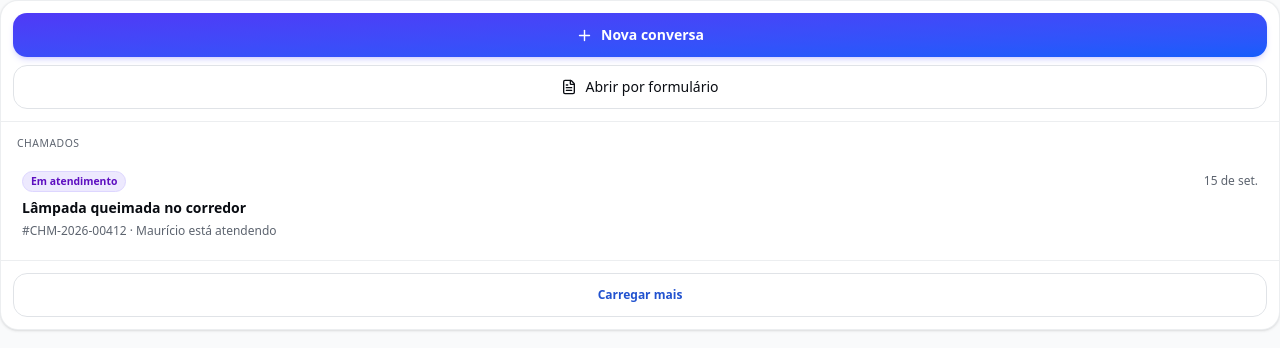
ListaLateral · carregar mais › esconde o botão quando a página seguinte diz que acabou
Click the button "Carregar mais" at (640, 296), box [13, 274, 1267, 318]
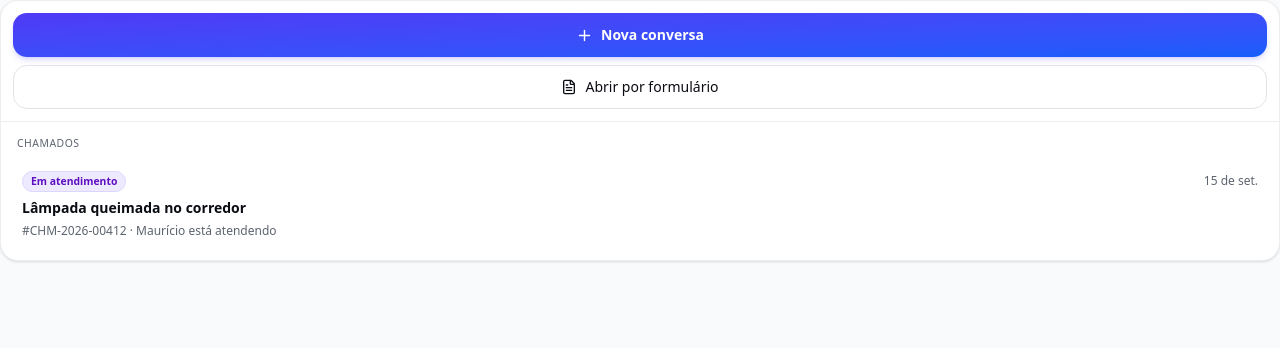
Check: the heading "Chamados" is shown, box [17, 136, 80, 150]
Check: the button "Carregar mais" is gone
